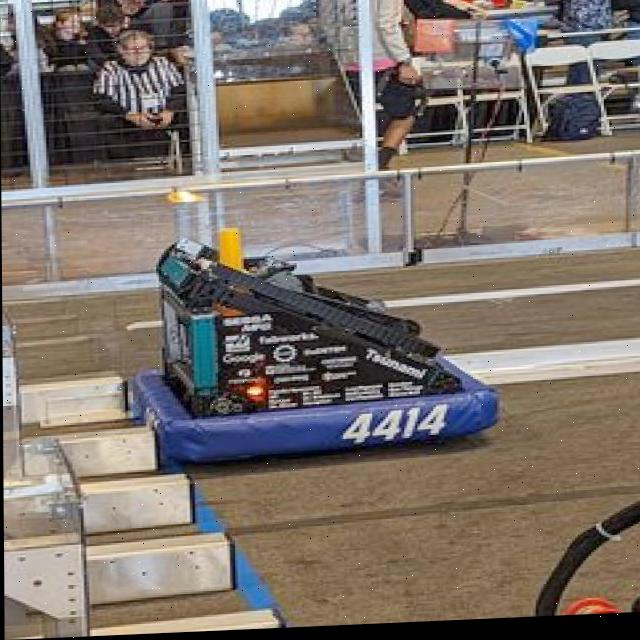robot: (127, 212, 509, 473)
